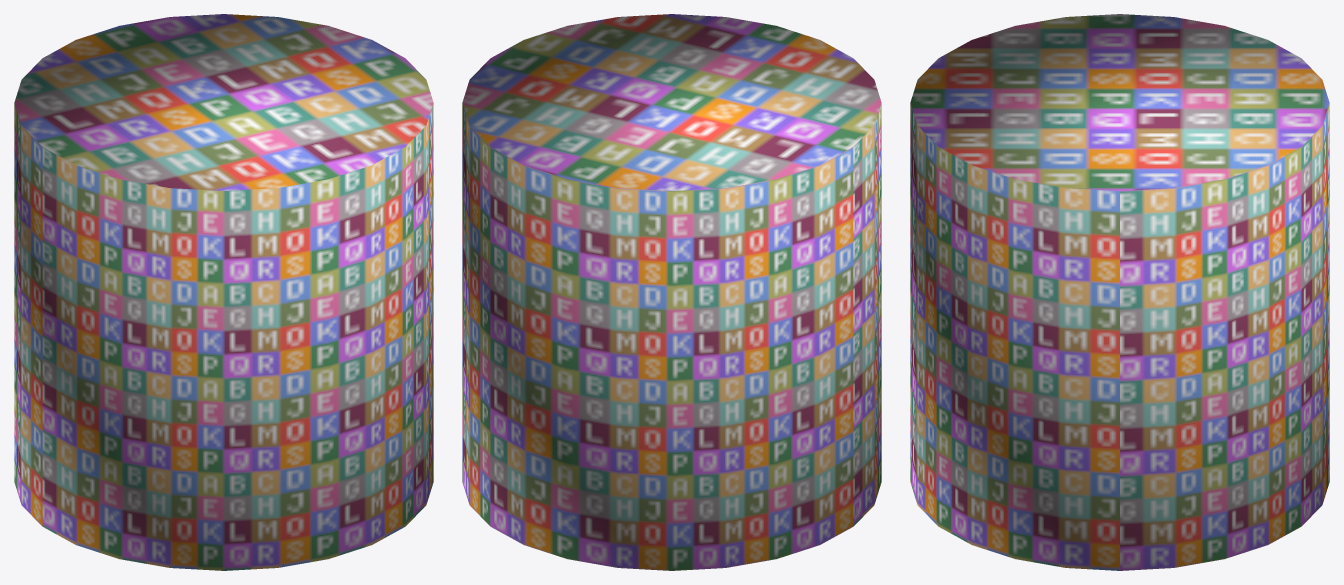
Rendered from Mapped_Barrell.obj.
The picture shows the model from 3 angles, left to right: view 1: azimuth 30°, elevation 25°; view 2: azimuth 150°, elevation 25°; view 3: azimuth 270°, elevation 25°; orthographic projection.
Parts seen in each view (by area): view 1: Cylinder1; view 2: Cylinder1; view 3: Cylinder1.
Part boxes in pixels (<box>): Cylinder1: <box>14,14,433,570</box>; Cylinder1: <box>462,14,881,570</box>; Cylinder1: <box>910,14,1329,570</box>.
Bounding box in the file's own units: 1 × 1 × 1.
1 material, 1 textured.
